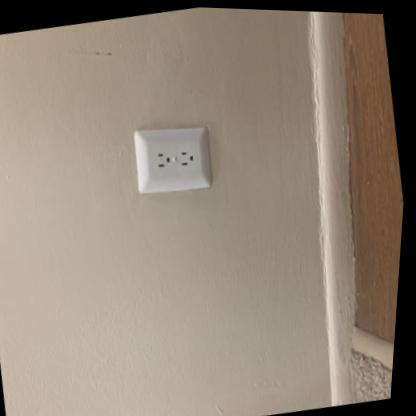OUTLET: (125, 118, 218, 198)
